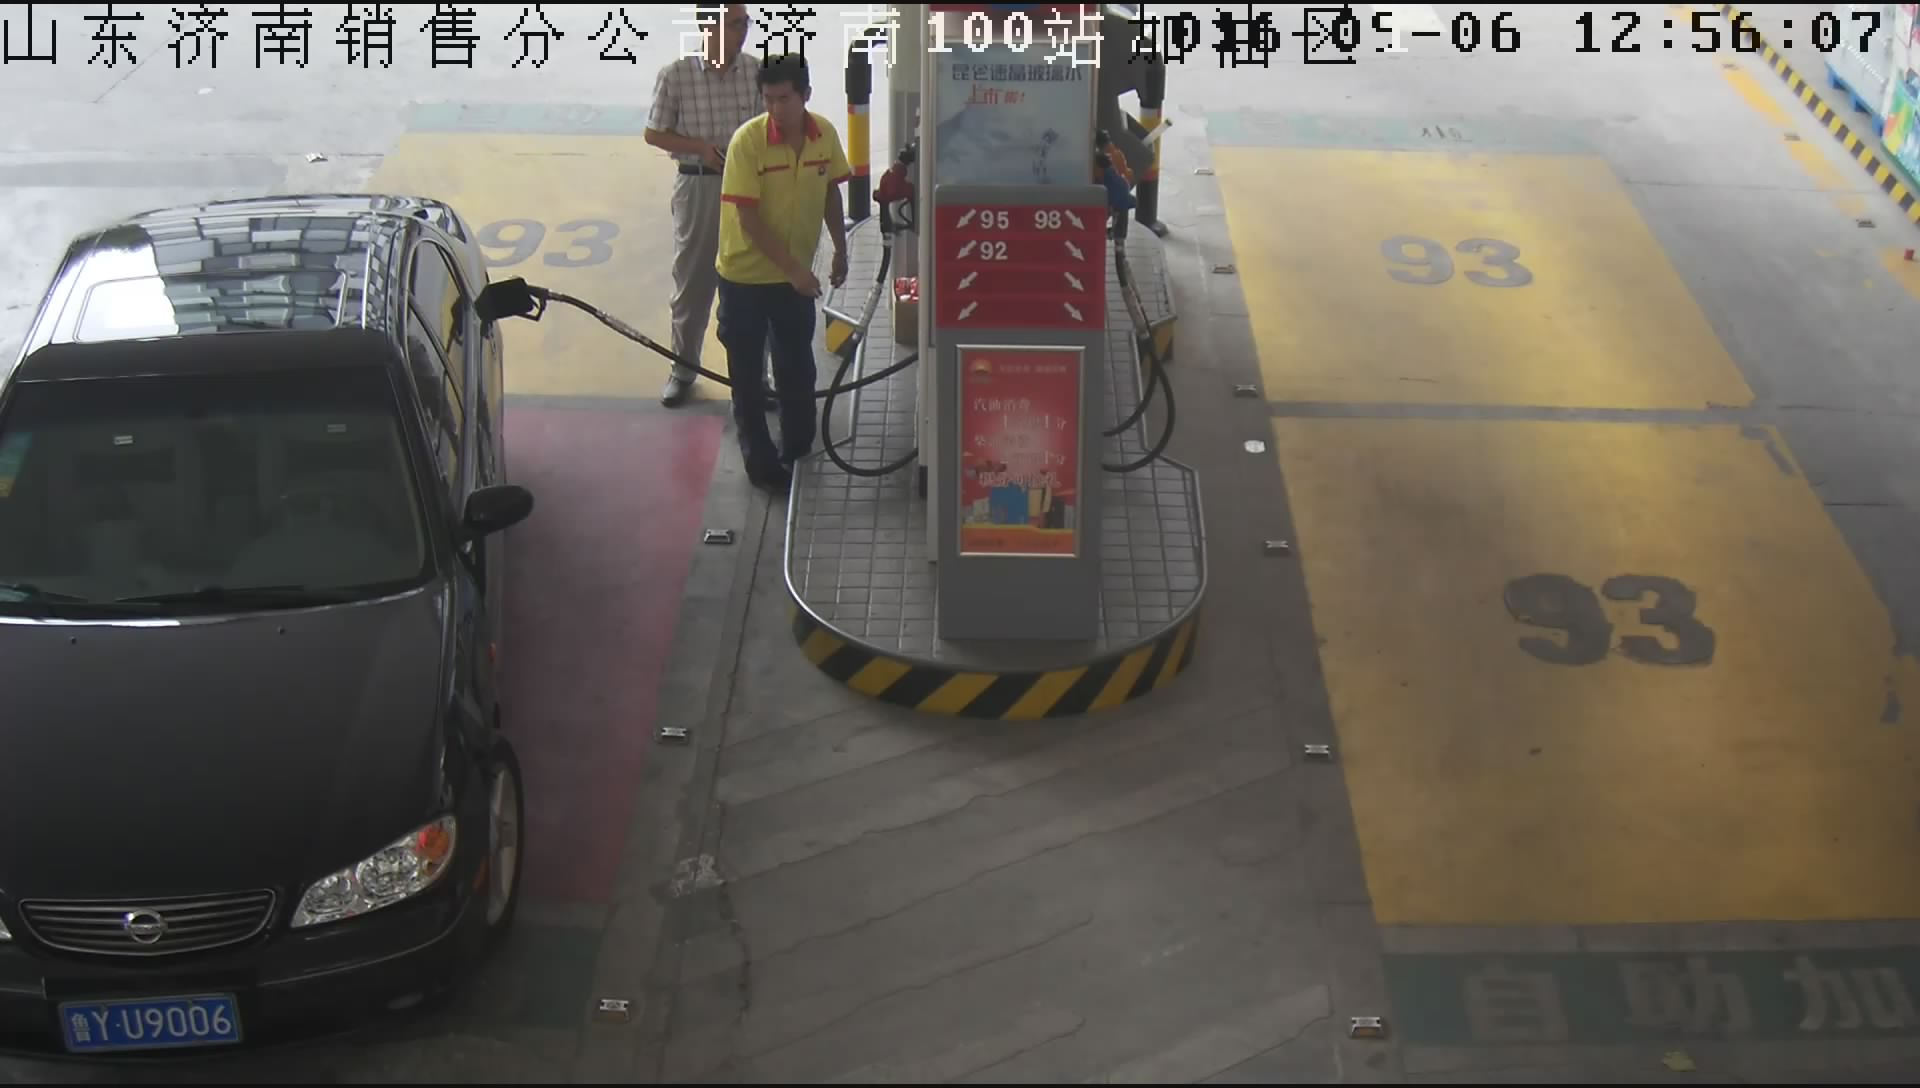blue: (59, 994, 244, 1056)
